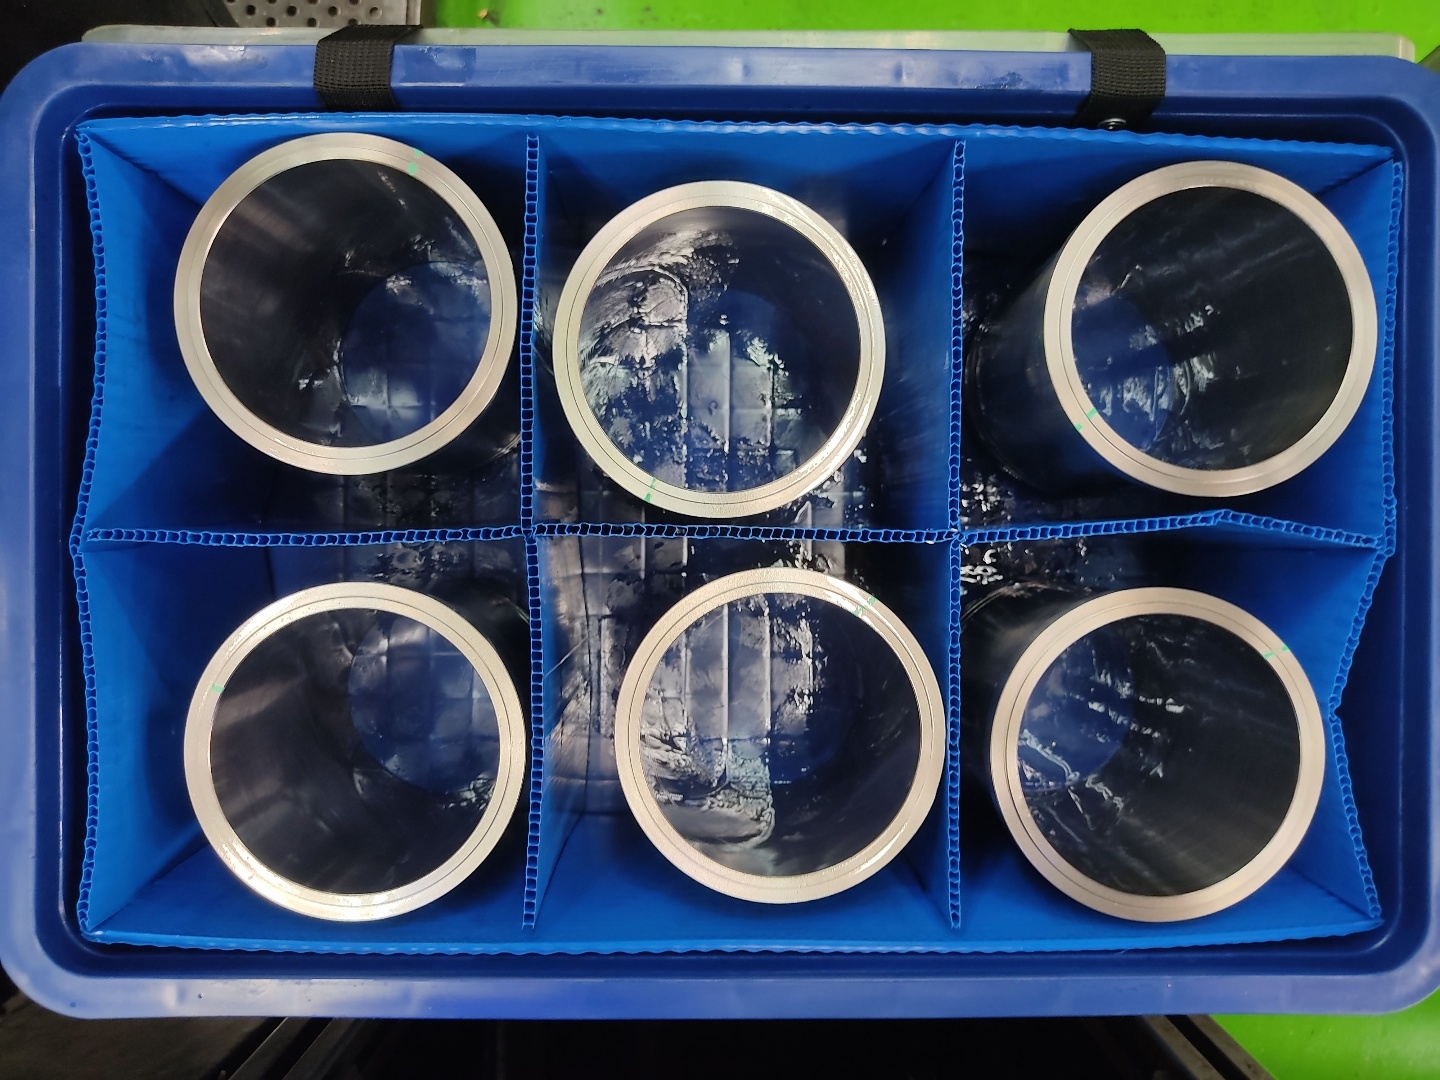cylinder: (166, 128, 520, 479), (178, 577, 534, 927), (1037, 154, 1382, 503), (550, 175, 891, 524), (610, 562, 951, 909), (986, 581, 1327, 929)
